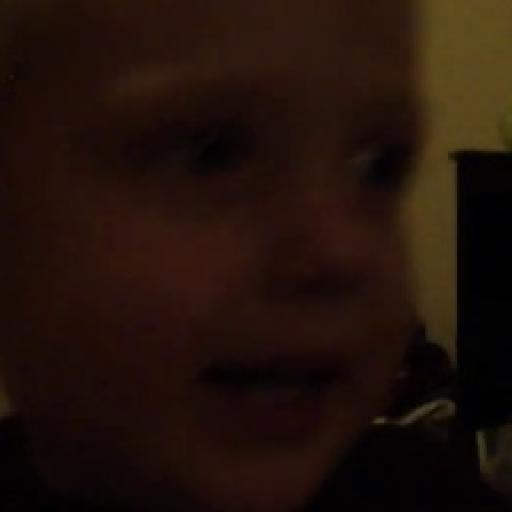Autism: (2, 0, 479, 482)
